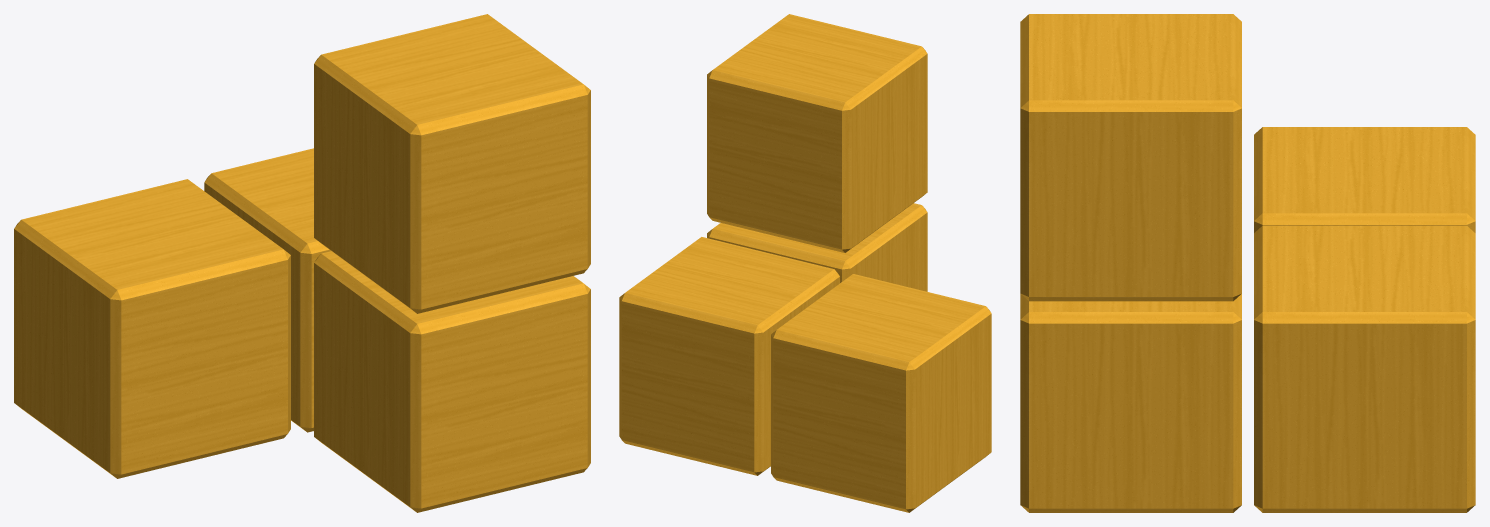
The model's file is piece_B.glb.
3 views of the same model, side by side, from view 1: azimuth 30°, elevation 25°; view 2: azimuth 150°, elevation 25°; view 3: azimuth 270°, elevation 25° (orthographic). The views are drawn at different scales.
Parts seen in each view (by area): view 1: piece_B; view 2: piece_B; view 3: piece_B.
Part boxes in pixels (<box>): piece_B: <box>14,14,590,512</box>; piece_B: <box>619,14,991,512</box>; piece_B: <box>1020,14,1475,512</box>.
Bounding box in the file's own units: 0.078 × 0.078 × 0.078.
Materials: 1 (1 with a texture image).
